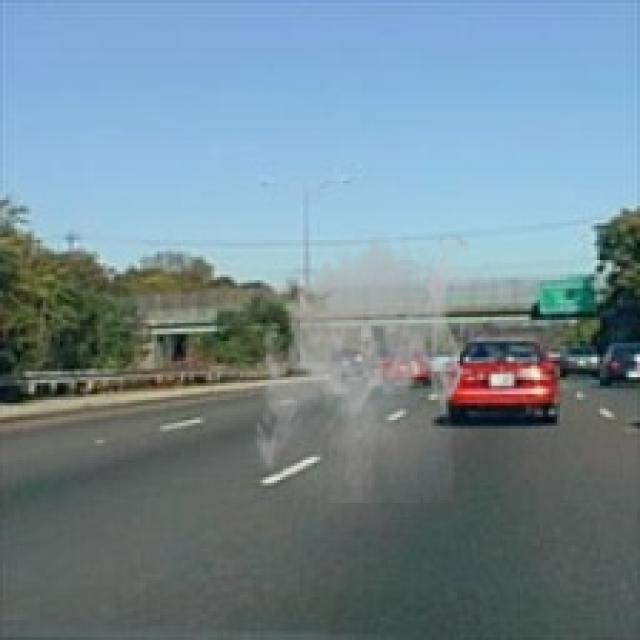Smoke: (248, 228, 468, 503)
